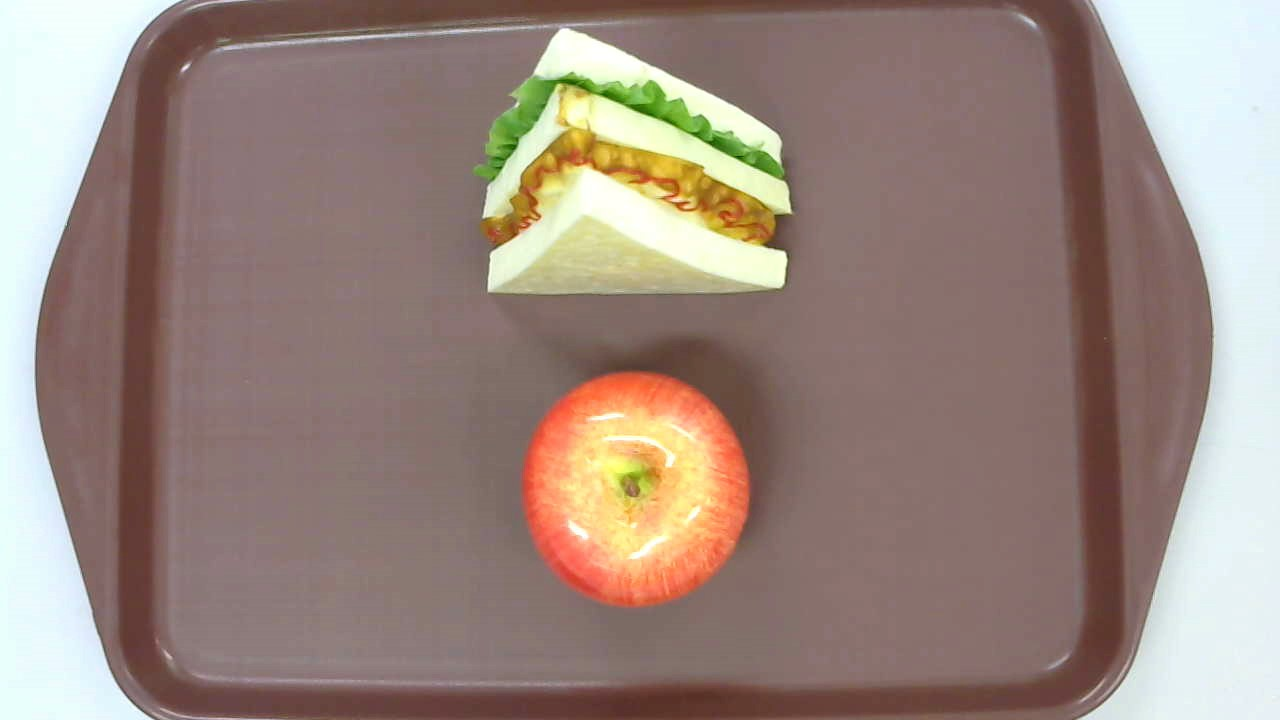red apple: (523, 370, 750, 605)
sandwich: (470, 27, 794, 295)
